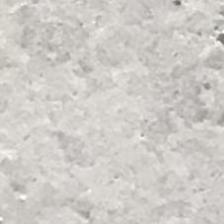Non_Crack: (6, 9, 191, 202)
